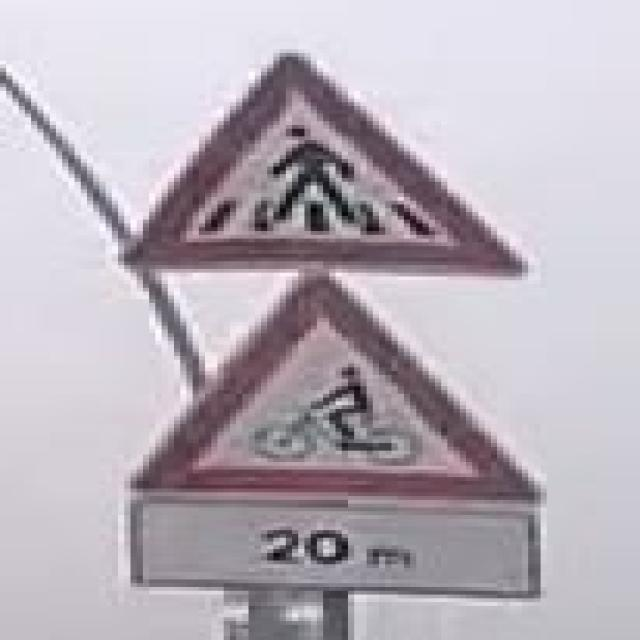Pedestrian crosswalk: (109, 47, 538, 276)
